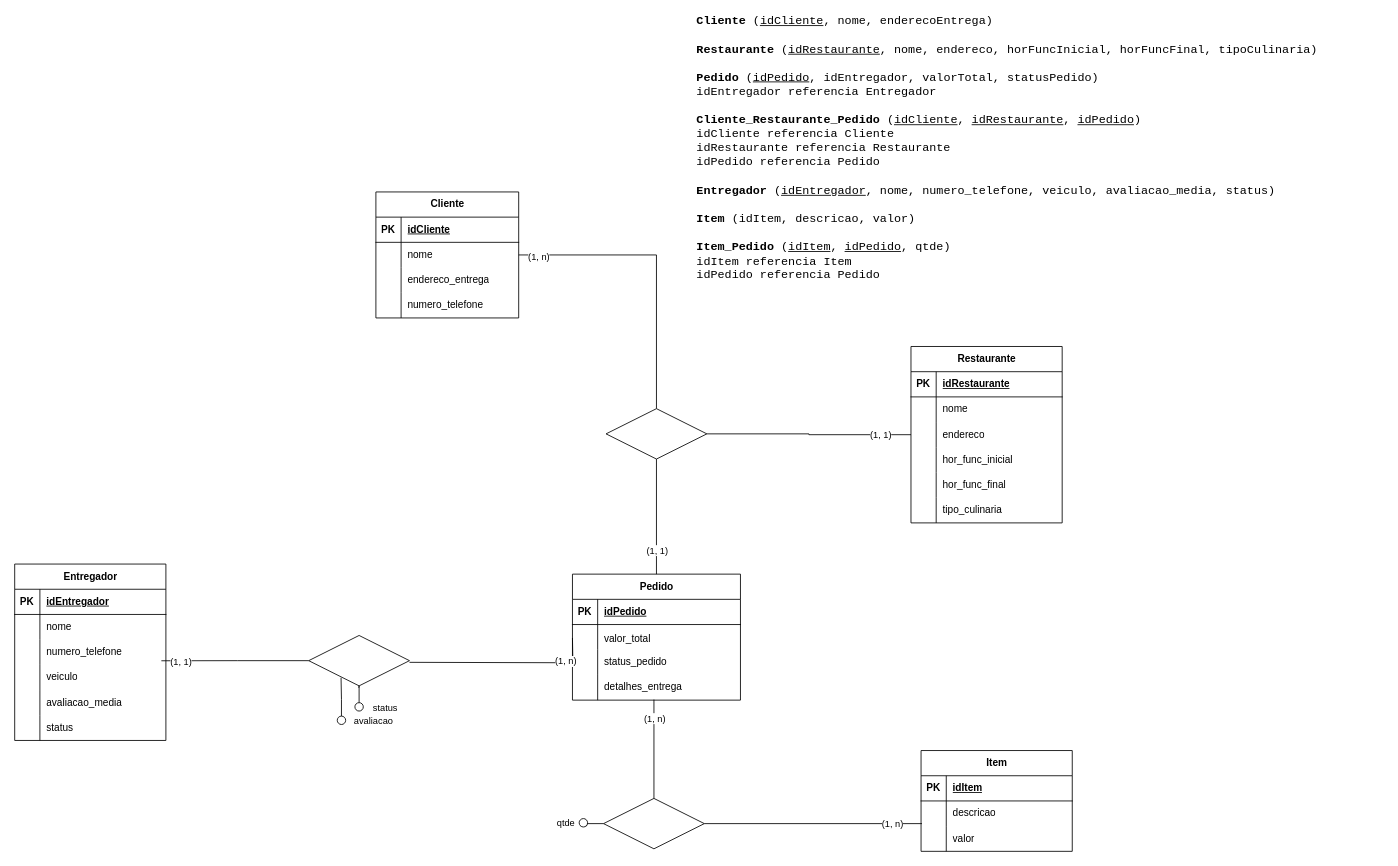
Some shapes in this 1398 by 866 pixel diagram are drawn without their labels. The shapes that lost their labels are listed below. From the top down, each one's centre as x and y in pixels, then its label:
At point (656, 433): "realiza".
At point (359, 660): "entrega".
At point (653, 823): "adiciona".
